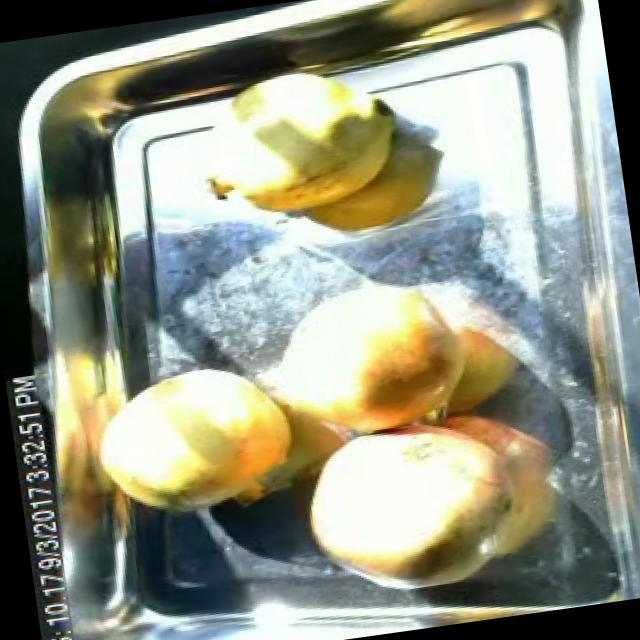fruit: (275, 390, 548, 622), (75, 350, 314, 537), (193, 51, 420, 236), (317, 278, 497, 447)
